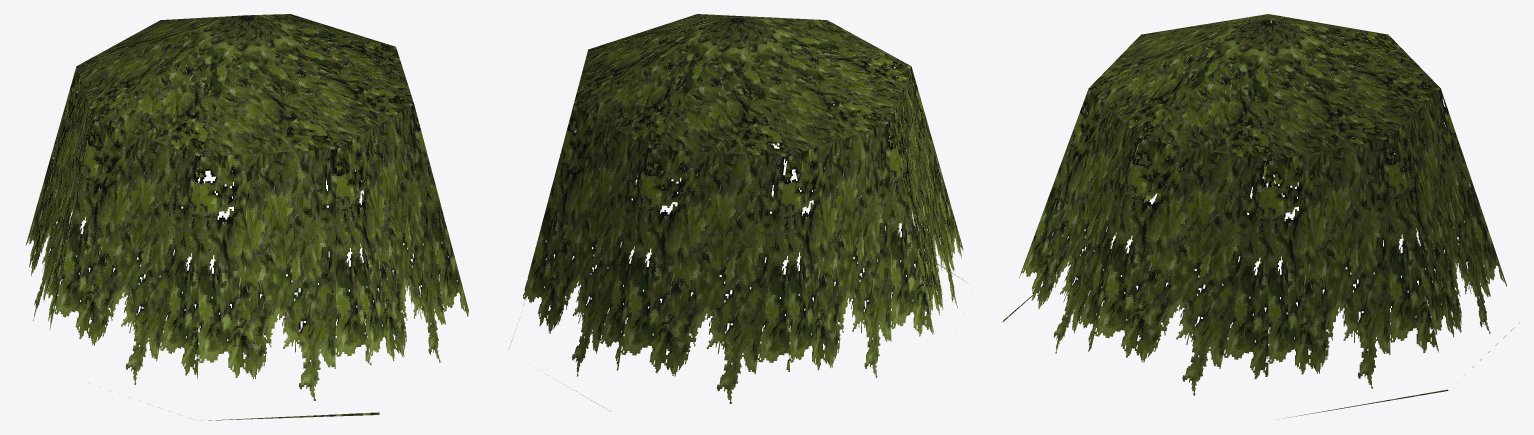
3 views of the same model, side by side, from view 1: azimuth 30°, elevation 25°; view 2: azimuth 150°, elevation 25°; view 3: azimuth 270°, elevation 25° (orthographic).
Visible parts, largest first — view 1: model; view 2: model; view 3: model.
Part boxes in pixels (box(x1,y1,x2,y2)): model: box(25, 14, 468, 420); model: box(509, 14, 964, 411); model: box(1003, 14, 1518, 417).
Bounding box in the file's own units: 0.9766 × 0.6953 × 1.08.
1 material, 1 textured.
